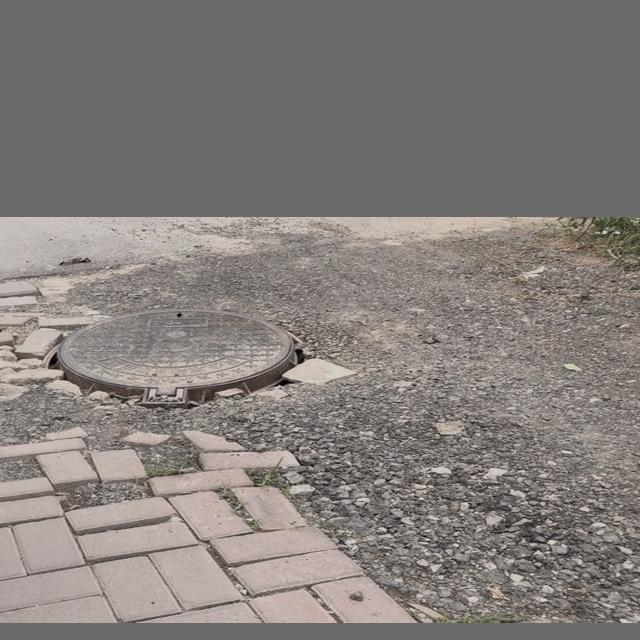circle: (0, 280, 378, 441)
